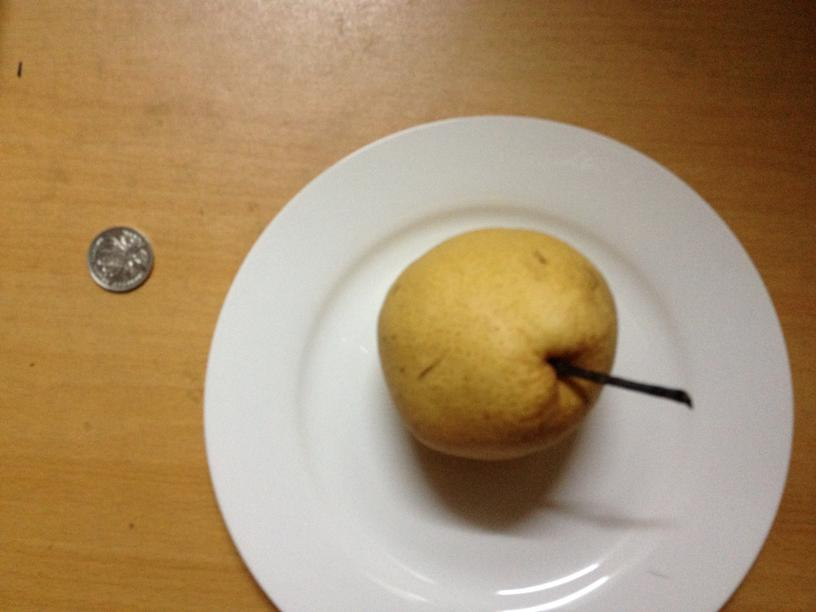coin: (86, 225, 155, 292)
pear: (370, 226, 620, 461)
